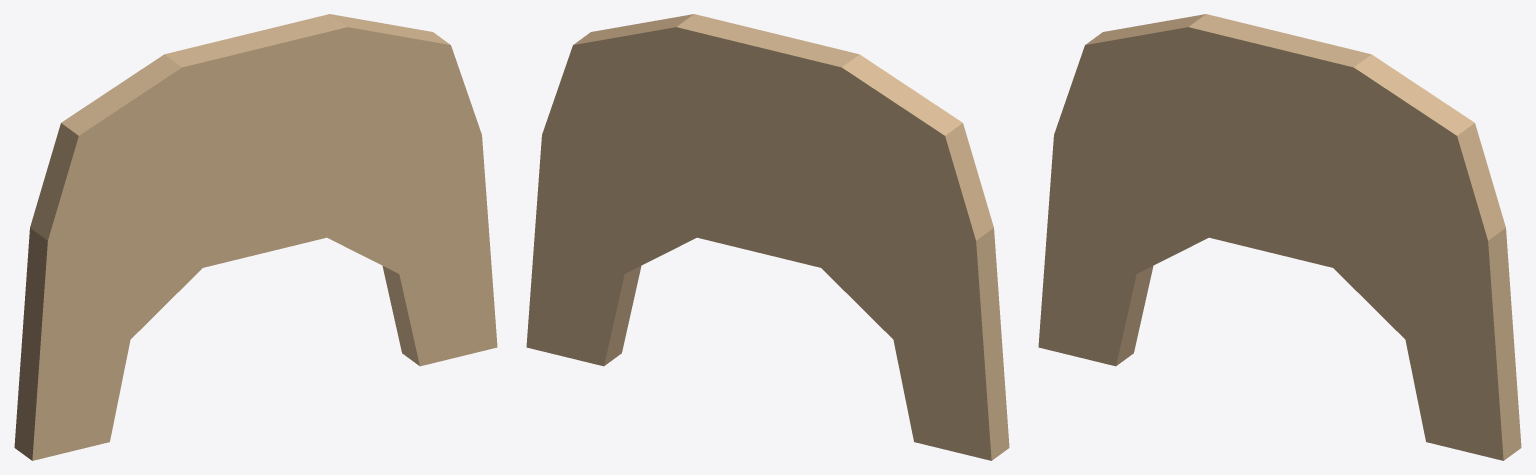
Rendered from prop-viol-bridge-blank.fbx.
3 renders of one model, left to right at view 1: azimuth 30°, elevation 25°; view 2: azimuth 150°, elevation 25°; view 3: azimuth 330°, elevation 25°, orthographic.
Parts seen in each view (by area): view 1: prop-viol-bridge-blank; view 2: prop-viol-bridge-blank; view 3: prop-viol-bridge-blank.
Boxes of the visible parts, bbox=[...] form: prop-viol-bridge-blank: bbox=[14, 14, 497, 460]; prop-viol-bridge-blank: bbox=[526, 14, 1009, 460]; prop-viol-bridge-blank: bbox=[1038, 14, 1521, 460].
Size of the model in its own units: 9 by 6.6 by 0.6.
